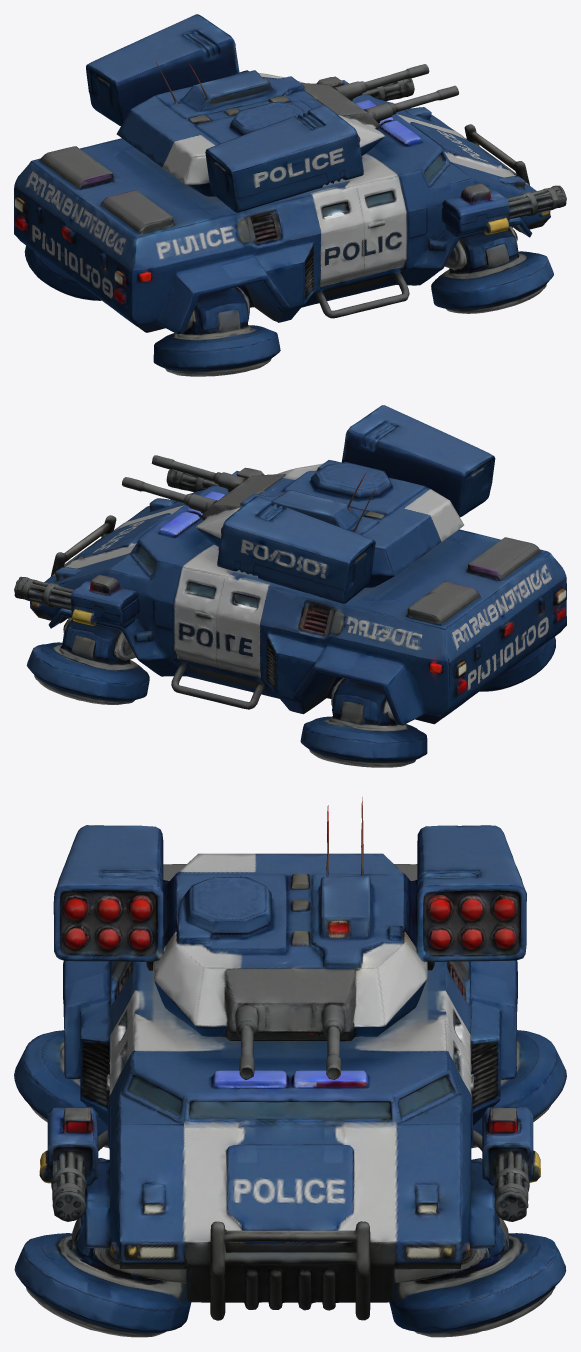
Rendered from BossTankVisual.fbx.
3 renders of one model, top to bottom at view 1: azimuth 30°, elevation 25°; view 2: azimuth 150°, elevation 25°; view 3: azimuth 270°, elevation 25°, orthographic. The views are drawn at different scales.
Visible parts, largest first — view 1: tripo_node_ef735aa6; view 2: tripo_node_ef735aa6; view 3: tripo_node_ef735aa6.
Boxes of the visible parts, box(x1,y1,x2,y2) form: tripo_node_ef735aa6: box(14, 14, 566, 376); tripo_node_ef735aa6: box(14, 405, 566, 767); tripo_node_ef735aa6: box(14, 797, 566, 1337).
Bounding box in the file's own units: 0.9996 × 0.5451 × 0.7554.
